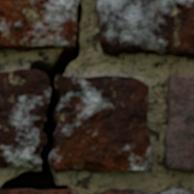brick: (97, 0, 193, 57), (0, 0, 79, 51), (164, 75, 193, 171), (0, 190, 77, 193), (101, 189, 152, 193), (162, 189, 193, 193)
broken_brick: (52, 75, 152, 172), (0, 68, 49, 168)
crack: (0, 2, 82, 191), (170, 0, 188, 18), (153, 191, 161, 193)
